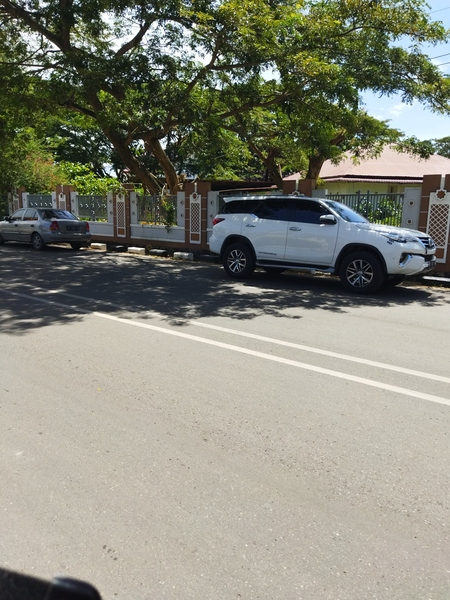car: (204, 193, 440, 305), (1, 206, 93, 254)
